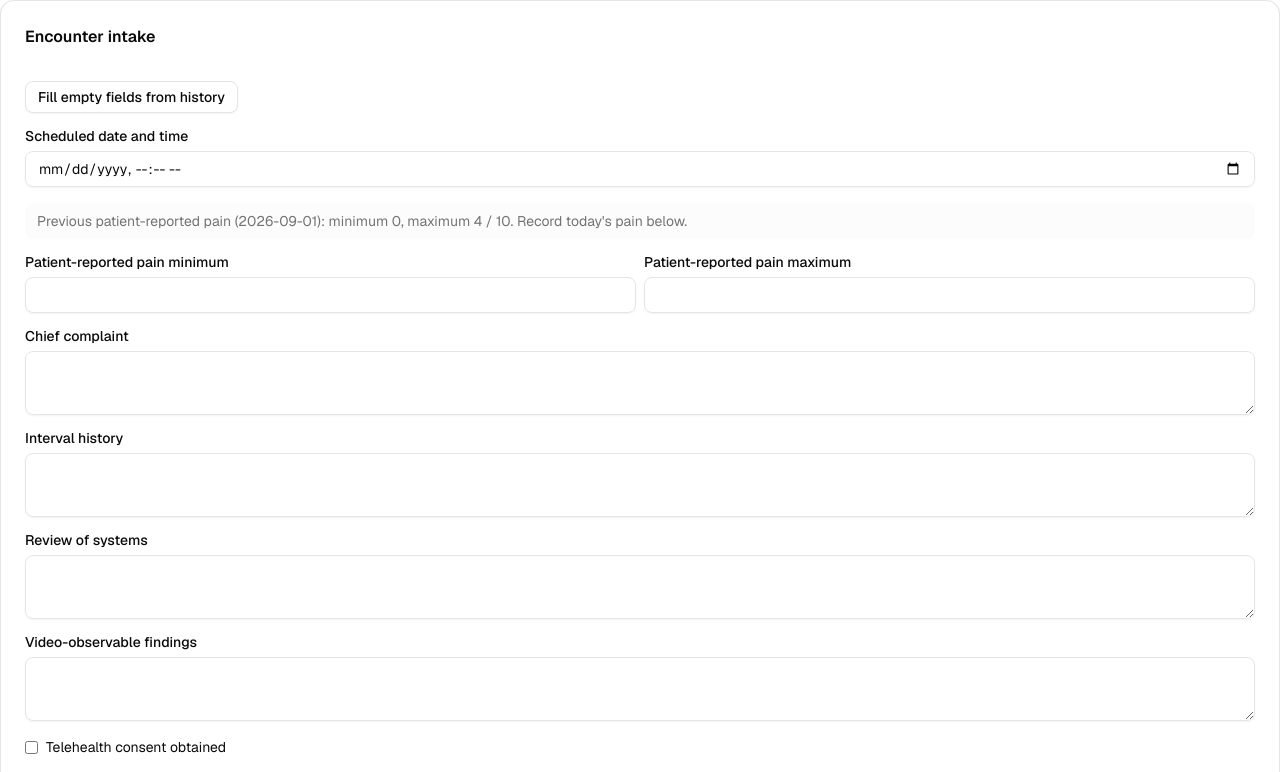
Scenario: historical follow-up intake › allows retry after an explicit history failure without losing input
Click the button "Fill empty fields from history" at (132, 97), box x1=25 y1=81 x2=238 y2=113
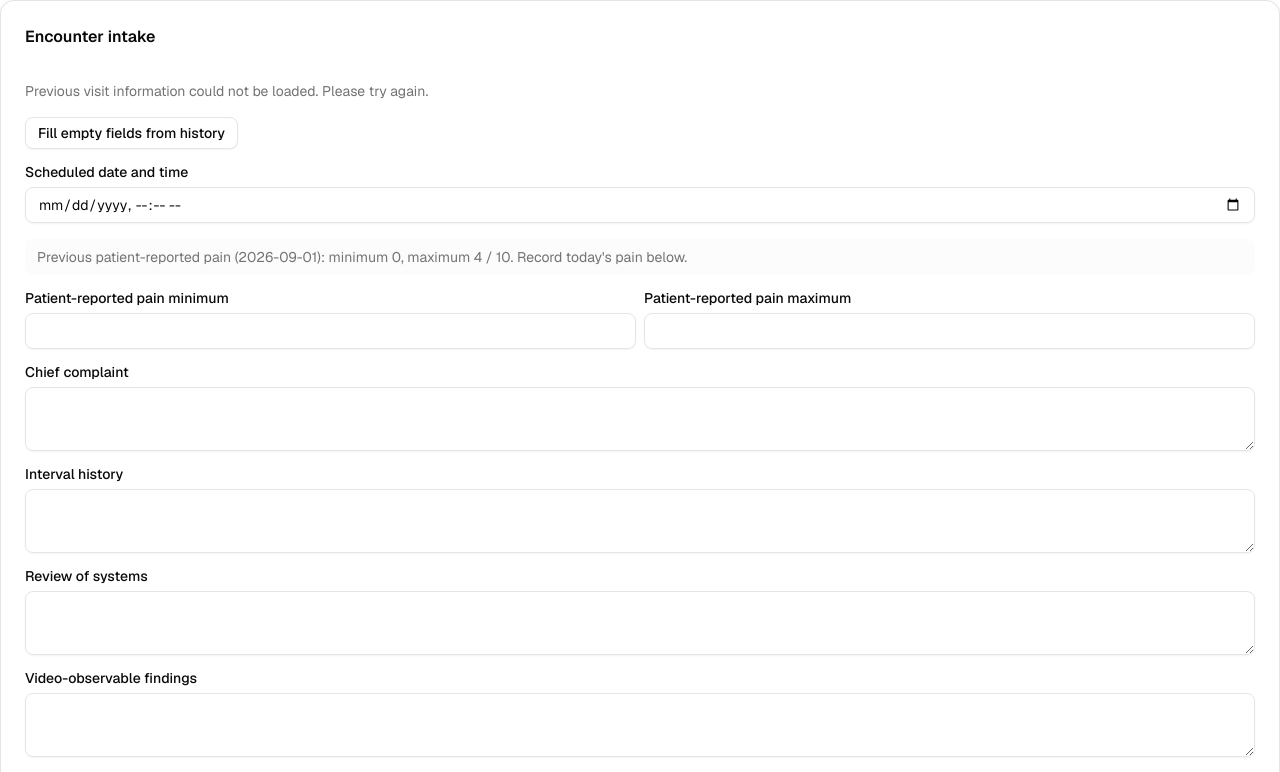
expect the text box labelled "Chief complaint" is empty: met, box x1=25 y1=387 x2=1255 y2=451
expect the message shows "try again": met, box x1=25 y1=82 x2=428 y2=100
Click the button "Fill empty fields from history" at (132, 133), box x1=25 y1=117 x2=238 y2=149
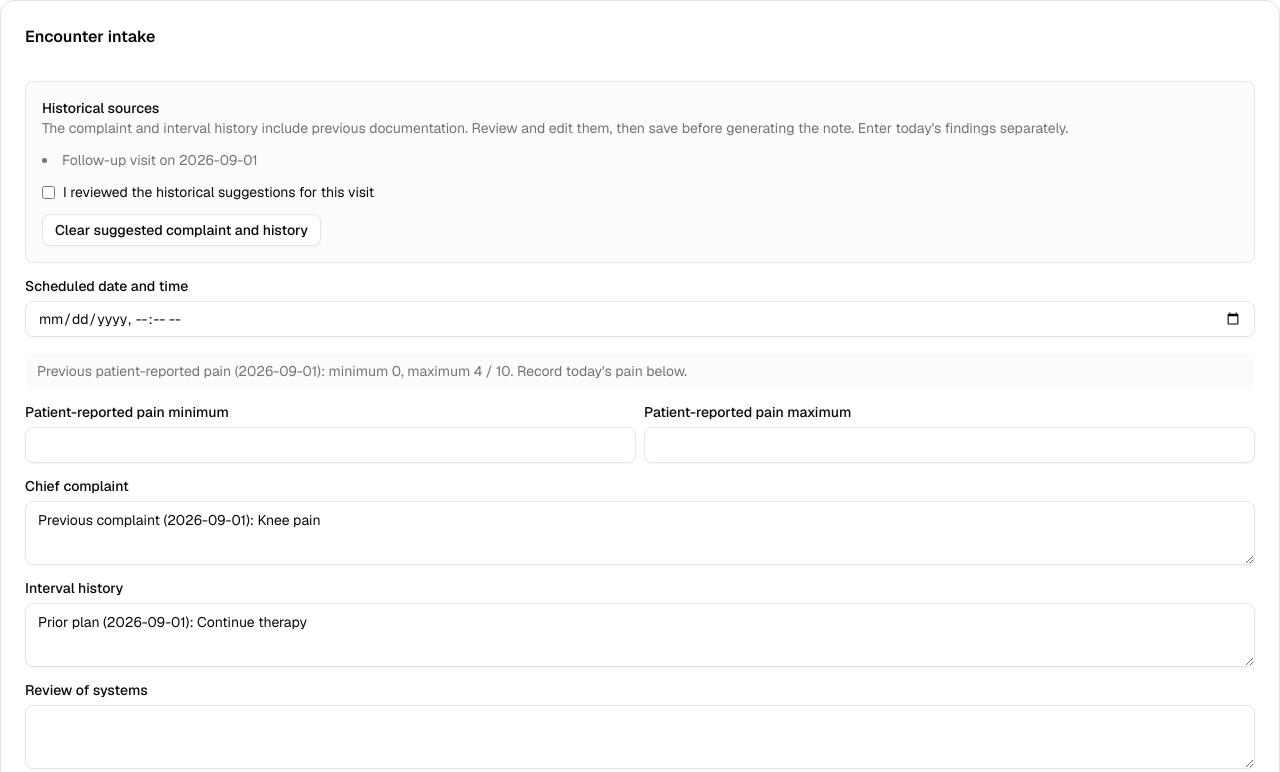
expect the message "Previous visit information could not be loaded. Please try again." is gone: met
